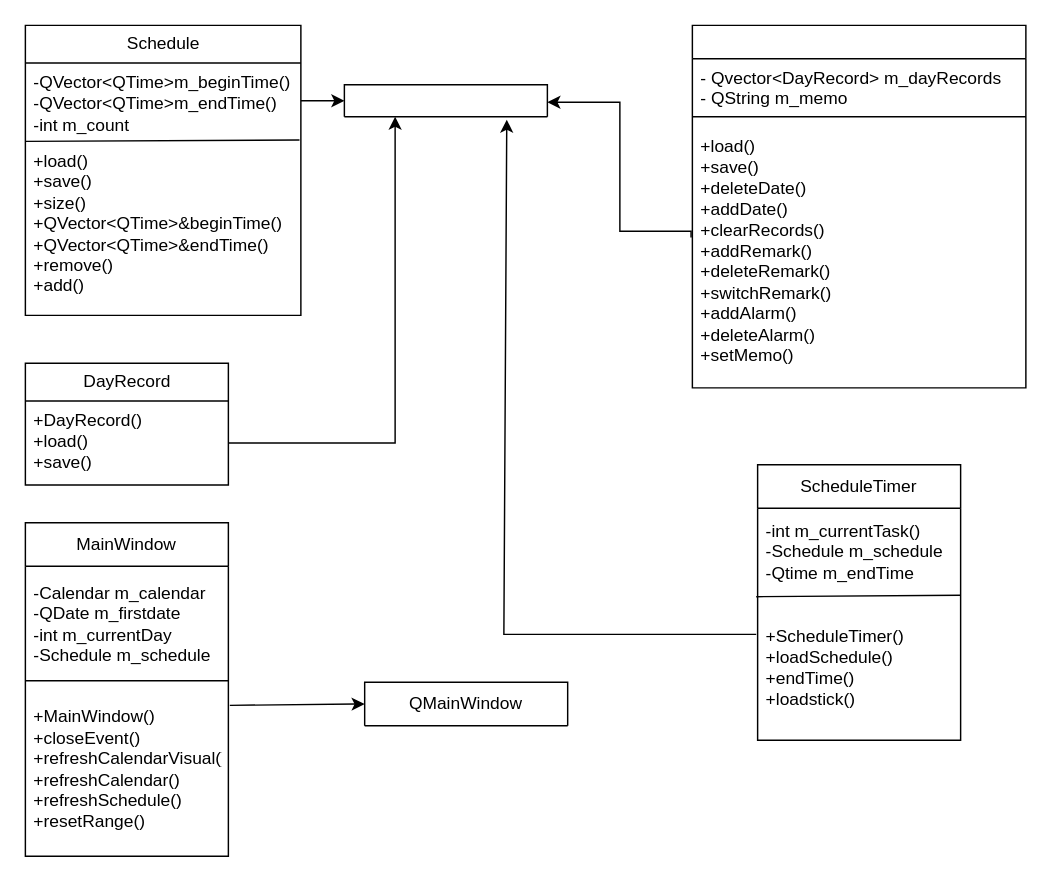
This 1053x882 diagram has some shape labels left out. The box of each missing label's shape, as (x1, y1, x2, y2) in pixels:
Calendar: (691, 24, 1026, 388)
QObject: (343, 83, 547, 117)
